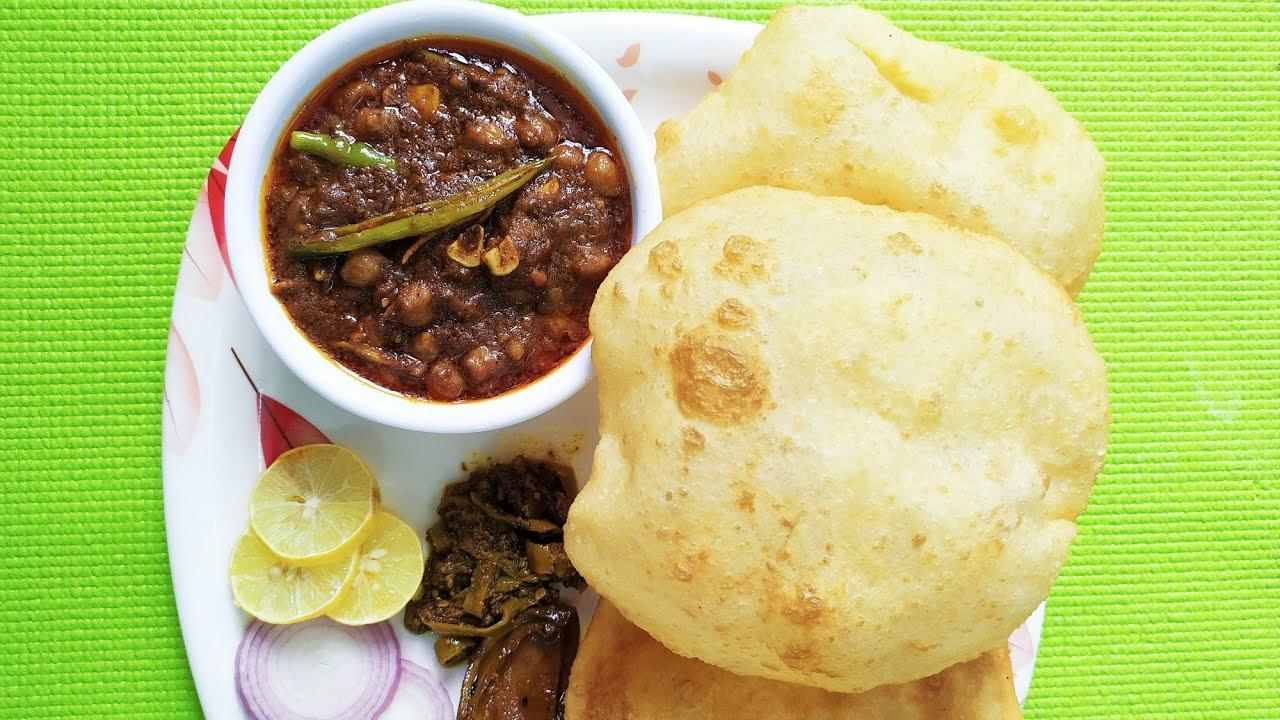Bhatura: (566, 185, 1106, 695), (655, 0, 1109, 302)
Chole: (262, 35, 635, 404)
